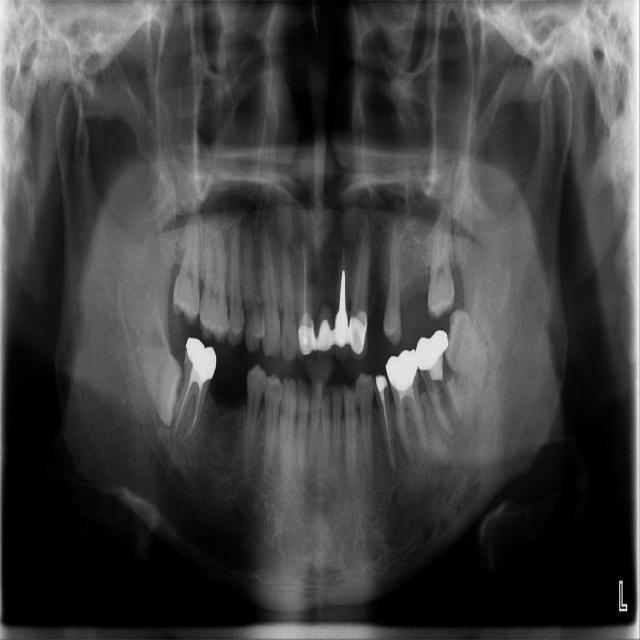Crown: (296, 306, 368, 364), (385, 347, 419, 403), (183, 336, 216, 387), (416, 328, 450, 371)
Missing teeth: (208, 359, 249, 410), (398, 276, 431, 333), (368, 296, 387, 355)
Periapical lesion: (386, 460, 402, 488), (442, 420, 458, 439), (180, 429, 195, 445), (170, 426, 180, 446), (456, 408, 464, 424)
Root Canal Treatment: (379, 390, 395, 471), (431, 383, 448, 427), (179, 376, 194, 422), (411, 395, 425, 440), (190, 384, 203, 431), (399, 400, 406, 450), (302, 243, 306, 308)
impacted tooth: (129, 322, 183, 431), (447, 311, 499, 393)
